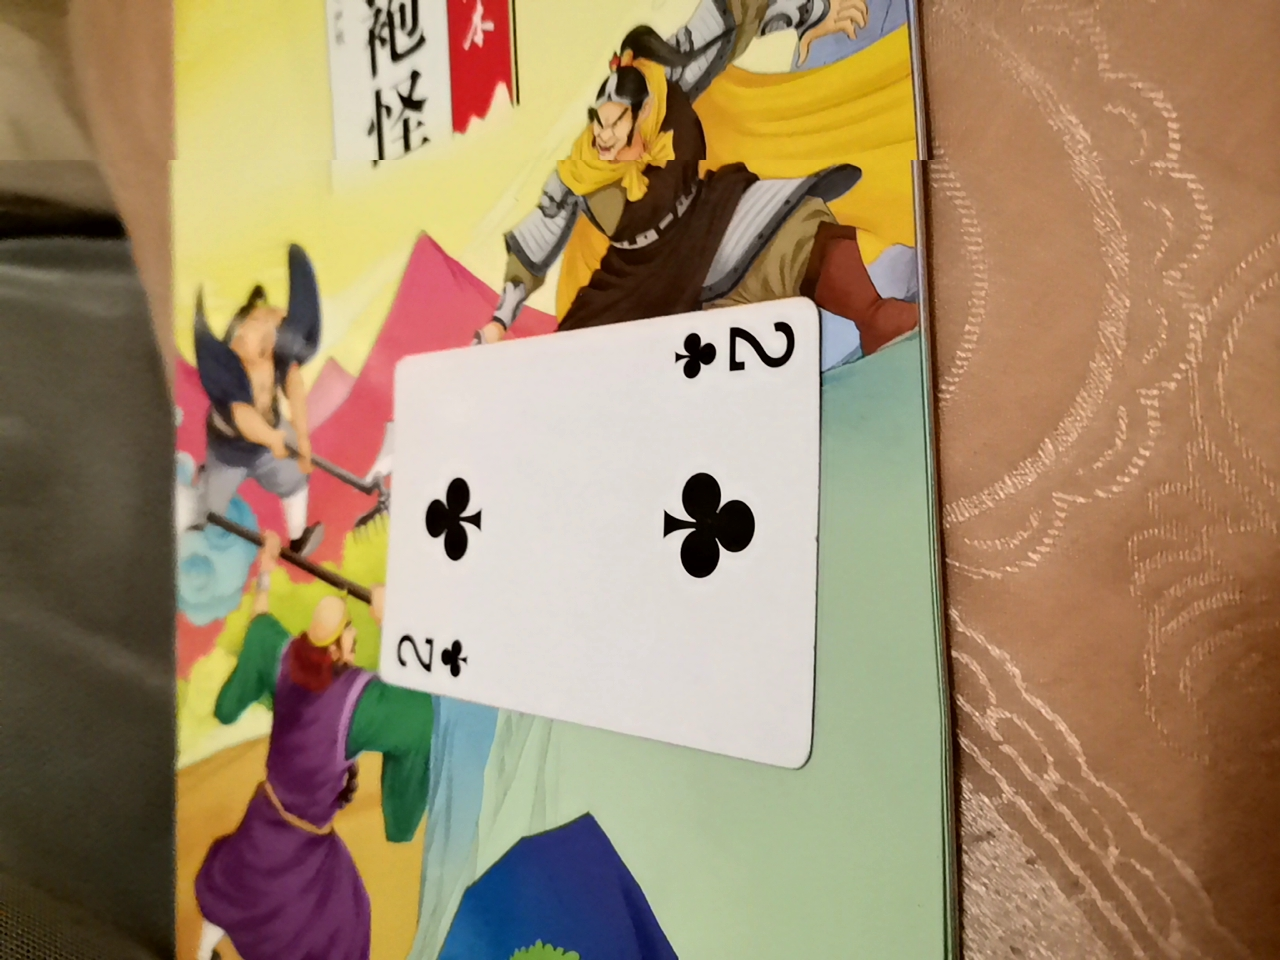mh 2: (388, 293, 844, 767)
